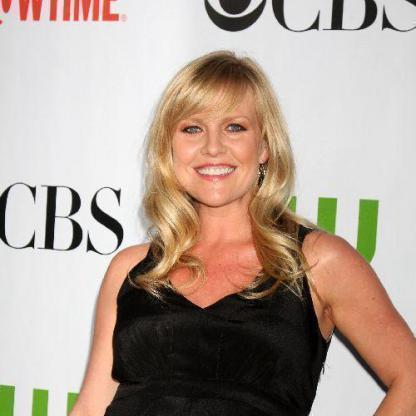long-hair: (137, 209, 304, 250)
